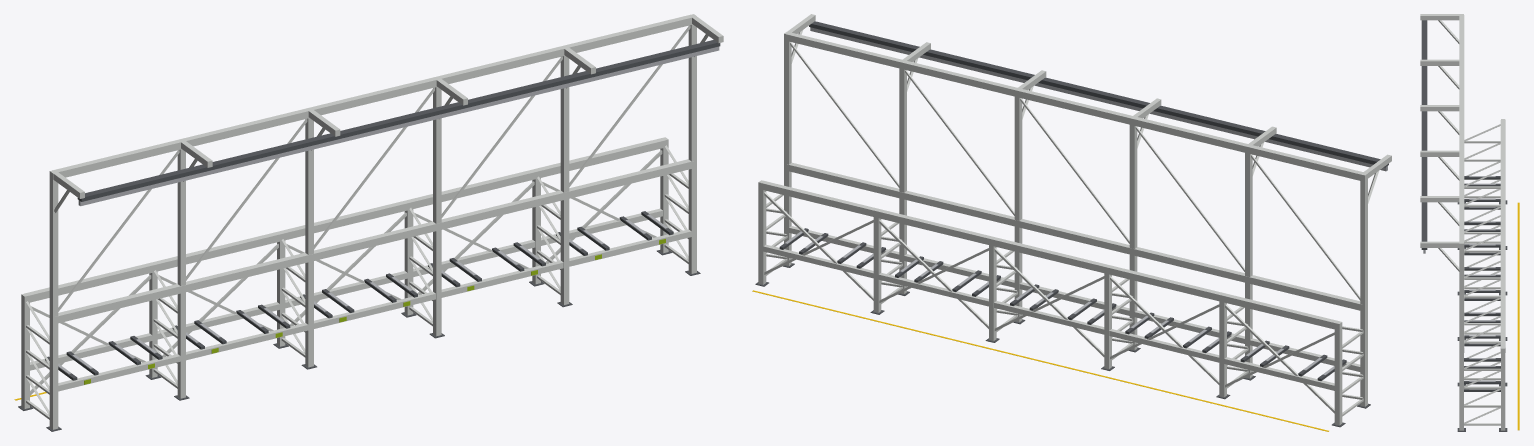
File: pallet_rack_1L_10S.glb
3 renders of one model, left to right at view 1: azimuth 30°, elevation 25°; view 2: azimuth 150°, elevation 25°; view 3: azimuth 270°, elevation 25°, orthographic. The views are drawn at different scales.
Parts seen in each view (by area): view 1: rack_frame__truss_white, rack_frame__steel_dark, rack_frame__steel; view 2: rack_frame__truss_white, rack_frame__steel_dark, rack_frame__steel, rack_frame__yellow; view 3: rack_frame__truss_white, rack_frame__steel_dark, rack_frame__steel, rack_frame__yellow.
Boxes of the visible parts, <box> form: rack_frame__truss_white: <box>21,14,723,429</box>; rack_frame__steel_dark: <box>18,40,720,431</box>; rack_frame__steel: <box>58,46,719,374</box>; rack_frame__truss_white: <box>758,14,1391,425</box>; rack_frame__steel_dark: <box>755,21,1388,427</box>; rack_frame__steel: <box>784,27,1387,375</box>; rack_frame__yellow: <box>752,290,1328,431</box>; rack_frame__truss_white: <box>1420,14,1505,430</box>; rack_frame__steel_dark: <box>1421,20,1507,431</box>; rack_frame__steel: <box>1423,176,1495,389</box>; rack_frame__yellow: <box>1517,202,1519,430</box>.
Bounding box in the file's own units: 13.2 × 5 × 2.4.
